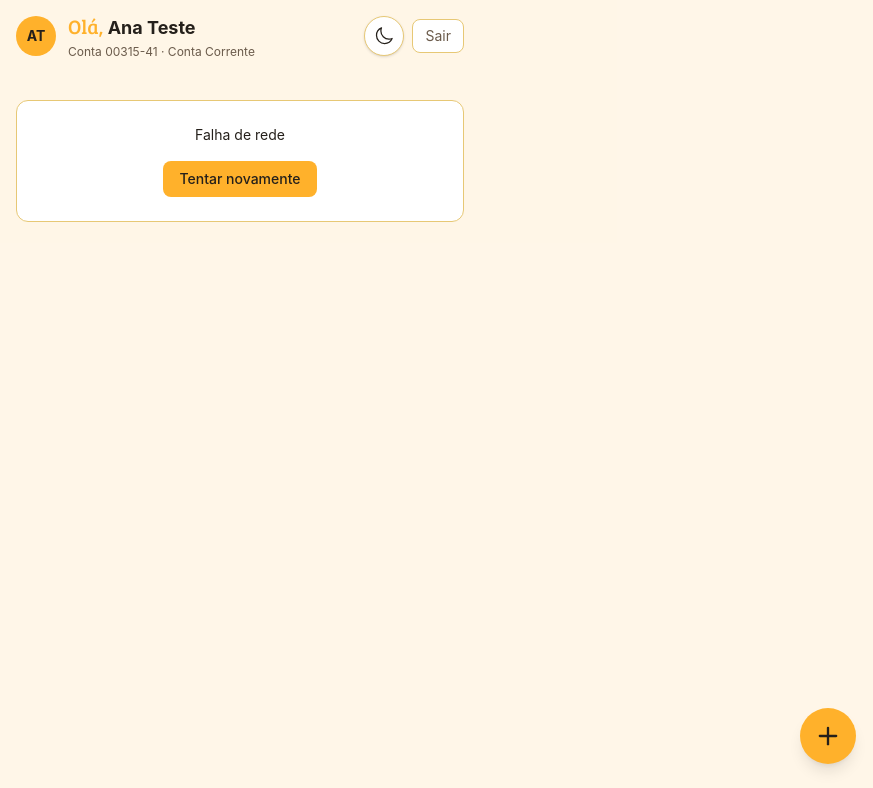
Test: ExtratoPage › mostra o erro e permite tentar novamente
Check: the text "Falha de rede" is shown, box [195, 126, 285, 143]
Click the button "Tentar novamente" at (240, 179), box [164, 161, 317, 197]
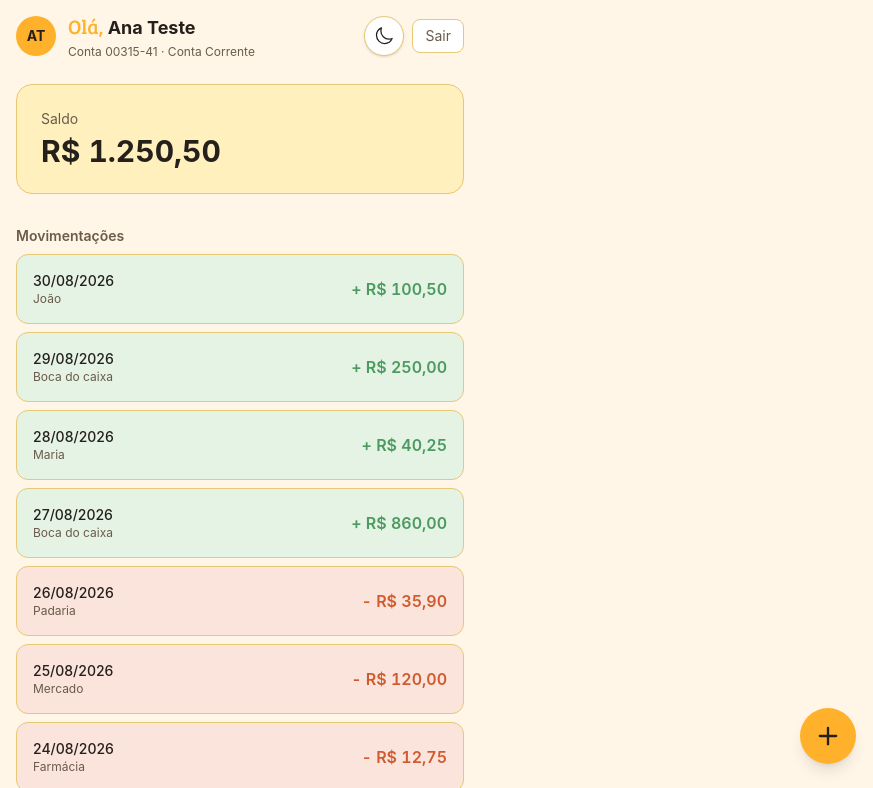
Check: the text "R$ 1.250,50" is shown, box [41, 133, 221, 169]
Check: the number of list items is 8
